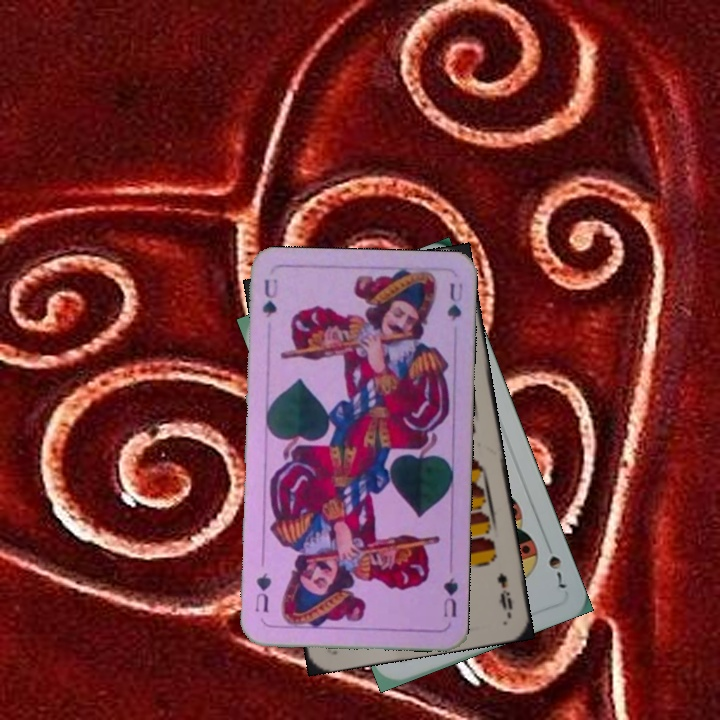E9: (493, 569, 516, 616)
GU: (439, 573, 461, 620), (259, 275, 280, 321)
S7: (544, 551, 569, 592)
